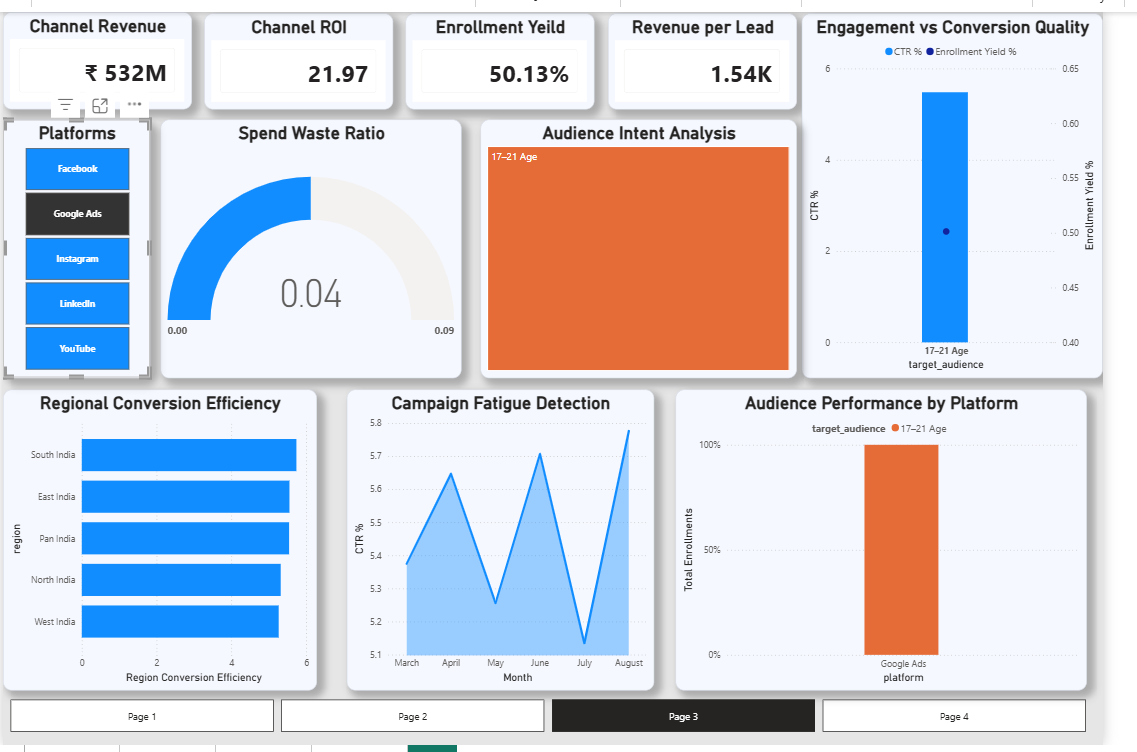

The page's visual inventory and layout, read from the dashboard file:
{"tool":"powerbi","page":{"name":"Page 3","canvas":[1500,1000],"ordinal":2},"visuals":[{"type":"cardVisual","title":"Channel Revenue","fields":{"Data":["campaign_performance_clean.Total Revenue"]},"box":[0,0,257.3,132.9],"z":0},{"type":"cardVisual","title":"Channel ROI","fields":{"Data":["campaign_performance_clean.ROI %"]},"box":[274.4,1.7,257.3,131.2],"z":1000},{"type":"cardVisual","title":"Enrollment Yeild","fields":{"Data":["campaign_performance_clean.Enrollment Yield %"]},"box":[548.7,1.7,257.3,131.2],"z":2000},{"type":"cardVisual","title":"Revenue per Lead","fields":{"Data":["Conversion_Stages.Lead Revenue Efficiency"]},"box":[824.8,1.7,257.3,131.2],"z":3000},{"type":"lineClusteredColumnComboChart","title":"Engagement vs Conversion Quality","fields":{"Category":["campaign_performance_clean.target_audience"],"Y":["Conversion_Stages.CTR %"],"Y2":["campaign_performance_clean.Enrollment Yield %"]},"box":[1089,1.7,410.7,497.6],"z":4000},{"type":"treemap","title":"Audience Intent Analysis","fields":{"Group":["campaign_performance_clean.target_audience"],"Values":["Conversion_Stages.Audience Intent Score"]},"box":[651,146.6,431.2,352.8],"z":5000},{"type":"gauge","fields":{"Y":["Conversion_Stages.Spend Waste Ratio"]},"box":[214.7,146.6,410.7,352.8],"z":6000},{"type":"areaChart","title":"Campaign Fatigue Detection","fields":{"Category":["campaign_performance_clean.campaign_date.Variation.Date Hierarchy.Month"],"Y":["Conversion_Stages.CTR %"]},"box":[468.6,514.7,419.2,410.7],"z":7000},{"type":"clusteredBarChart","title":"Regional Conversion Efficiency","fields":{"Category":["campaign_performance_clean.region"],"Y":["Conversion_Stages.Region Conversion Efficiency"]},"box":[0,514.7,427.7,410.7],"z":8000},{"type":"pageNavigator","box":[10.2,937.3,1467.3,44.3],"z":9000},{"type":"slicer","title":"Platforms ","fields":{"Values":["campaign_performance_clean.platform"]},"box":[0,146.6,201.1,352.8],"z":10000},{"type":"hundredPercentStackedColumnChart","title":"Audience Performance by Platform","fields":{"Category":["campaign_performance_clean.platform"],"Y":["campaign_performance_clean.Total Enrollments"],"Series":["campaign_performance_clean.target_audience"]},"box":[916.8,514.7,560.7,410.7],"z":11001}]}

Visuals, with their boxes on the page's 1500x1000 design canvas (x1, y1, x2, y2). These are canvas units, not pixel positions in the 1137x752 screenshot, which may show the page scaled, cropped or inside an application window:
"Channel Revenue" cardVisual: rect(0, 0, 257, 133)
"Channel ROI" cardVisual: rect(274, 2, 532, 133)
"Enrollment Yeild" cardVisual: rect(549, 2, 806, 133)
"Revenue per Lead" cardVisual: rect(825, 2, 1082, 133)
"Engagement vs Conversion Quality" lineClusteredColumnComboChart: rect(1089, 2, 1500, 499)
"Audience Intent Analysis" treemap: rect(651, 147, 1082, 499)
gauge - Conversion_Stages.Spend Waste Ratio: rect(215, 147, 625, 499)
"Campaign Fatigue Detection" areaChart: rect(469, 515, 888, 925)
"Regional Conversion Efficiency" clusteredBarChart: rect(0, 515, 428, 925)
pageNavigator: rect(10, 937, 1478, 982)
"Platforms " slicer: rect(0, 147, 201, 499)
"Audience Performance by Platform" hundredPercentStackedColumnChart: rect(917, 515, 1478, 925)
